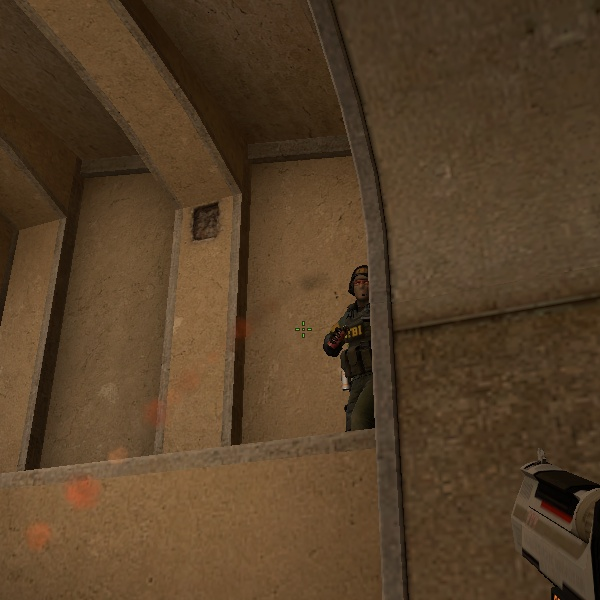ct_body: (320, 262, 387, 435)
ct_head: (341, 262, 379, 306)
